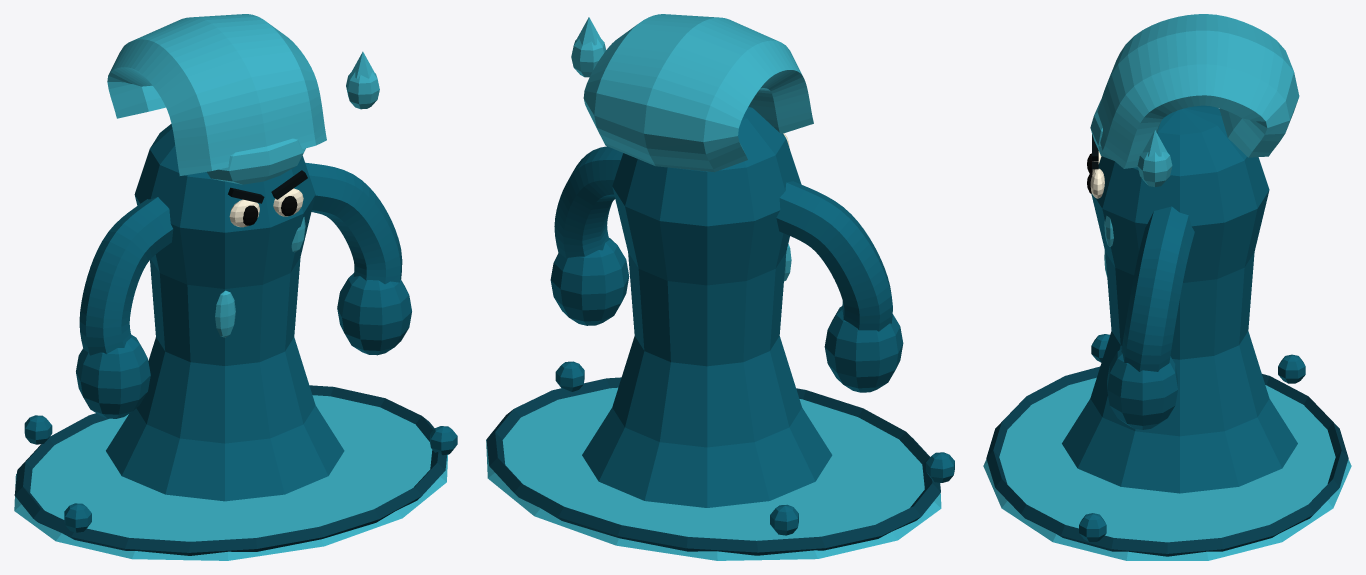
File: water-elemental.glb
The picture shows the model from 3 angles, left to right: view 1: azimuth 30°, elevation 25°; view 2: azimuth 150°, elevation 25°; view 3: azimuth 270°, elevation 25°; orthographic projection. The views are drawn at different scales.
Parts seen in each view (by area): view 1: body, puddle, crest, puddle_edge, arm_-1_0, arm_1_0, hand_1, hand_-1, crest_tip, drop_0, shine_-1, splash_2 (+2 smaller); view 2: body, puddle, crest, puddle_edge, arm_-1_0, arm_1_0, hand_1, hand_-1, drop_0, splash_0, splash_2, splash_1; view 3: body, puddle, crest, puddle_edge, arm_1_0, hand_1, drop_0, splash_2, splash_1.
Part boxes in pixels (x1,y1,x2,y2): body: (106, 124, 344, 501); puddle: (14, 395, 447, 560); crest: (107, 14, 326, 175); puddle_edge: (14, 385, 446, 555); arm_-1_0: (79, 197, 173, 355); arm_1_0: (305, 162, 402, 284); hand_1: (337, 273, 411, 355); hand_-1: (76, 334, 150, 418); crest_tip: (207, 138, 305, 184); drop_0: (346, 72, 379, 109); shine_-1: (215, 290, 235, 337); splash_2: (24, 415, 52, 444); body: (582, 106, 832, 507); puddle: (486, 387, 941, 560); crest: (583, 14, 813, 172); puddle_edge: (486, 377, 940, 555); arm_-1_0: (776, 181, 892, 331); arm_1_0: (554, 146, 622, 258); hand_1: (550, 238, 629, 325); hand_-1: (824, 306, 903, 392); drop_0: (571, 38, 606, 77); splash_0: (926, 452, 954, 482); splash_2: (770, 504, 798, 535); splash_1: (555, 361, 584, 391); body: (1062, 105, 1297, 493); puddle: (983, 377, 1351, 560); crest: (1097, 14, 1299, 168); puddle_edge: (986, 366, 1348, 556); arm_1_0: (1121, 206, 1194, 371); hand_1: (1107, 349, 1177, 429); drop_0: (1137, 152, 1172, 186); splash_2: (1278, 354, 1305, 383); splash_1: (1079, 513, 1106, 541).
Bounding box in the file's own units: 3.39 × 3.6 × 2.76.
